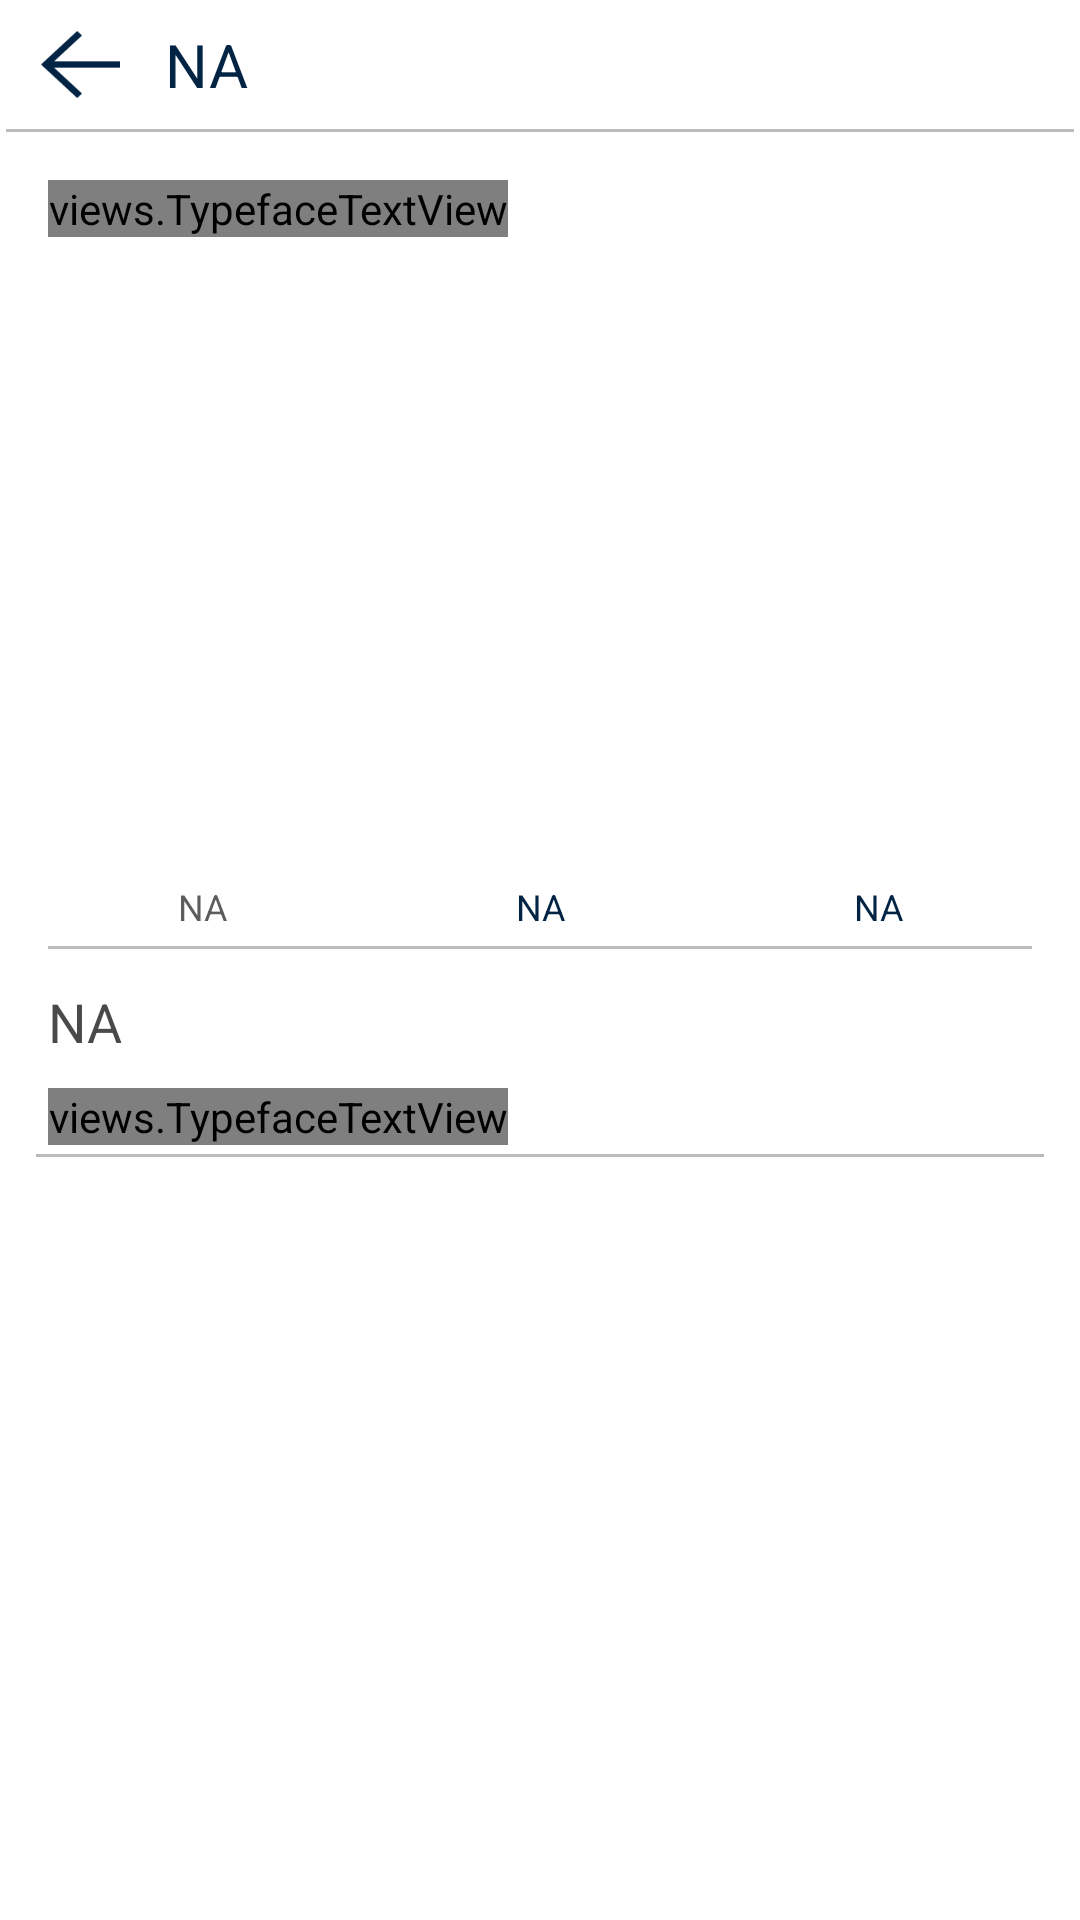

Named icons in this screenshot (1080 × 1920) and their bounding boxes, (x1, y1, x2, y2):
backbb: (41, 31, 120, 98)
